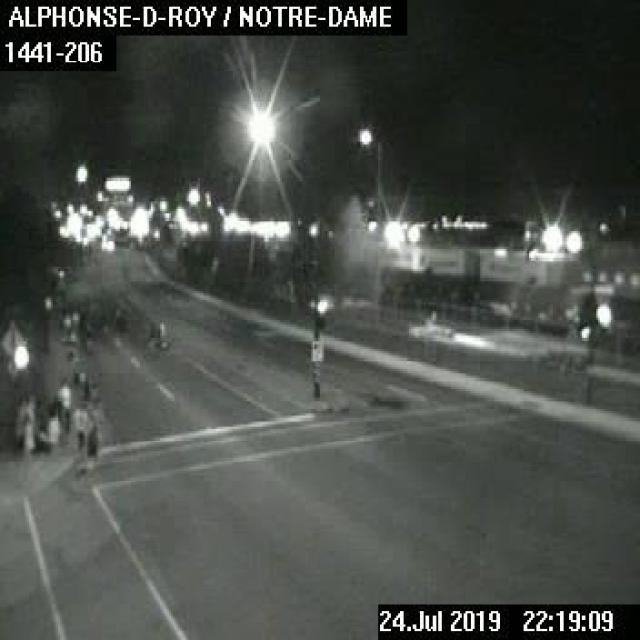pedestrian: (73, 411, 96, 467), (14, 391, 31, 458), (54, 375, 70, 433)
